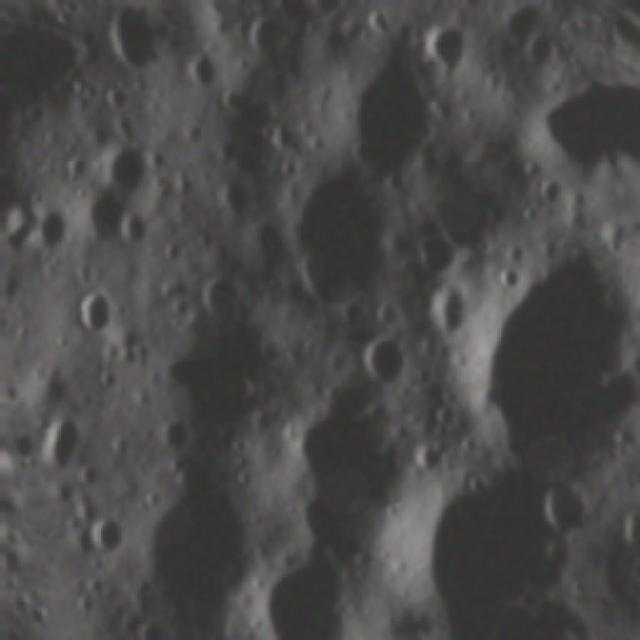crater: (429, 223, 640, 506), (385, 448, 578, 626), (103, 475, 280, 640), (304, 33, 458, 196), (256, 162, 399, 324), (216, 529, 370, 640), (505, 68, 617, 203), (526, 462, 603, 552), (184, 258, 262, 339), (20, 401, 92, 484), (408, 7, 478, 90), (80, 128, 157, 201), (352, 323, 419, 394), (58, 278, 122, 349), (402, 225, 464, 289), (27, 195, 85, 259), (76, 505, 136, 564), (172, 41, 228, 96), (398, 429, 452, 485), (106, 201, 159, 256), (607, 500, 640, 556), (93, 78, 136, 119)
